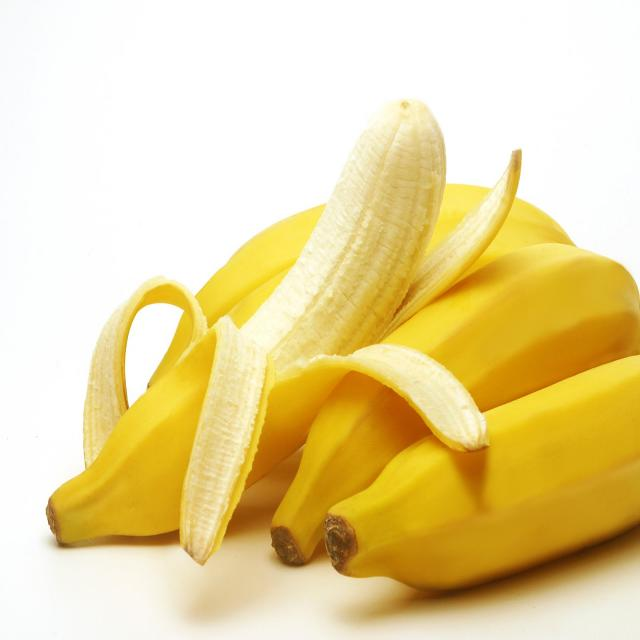banana: (39, 118, 440, 514), (271, 228, 633, 475), (330, 350, 640, 628), (142, 168, 574, 366)
